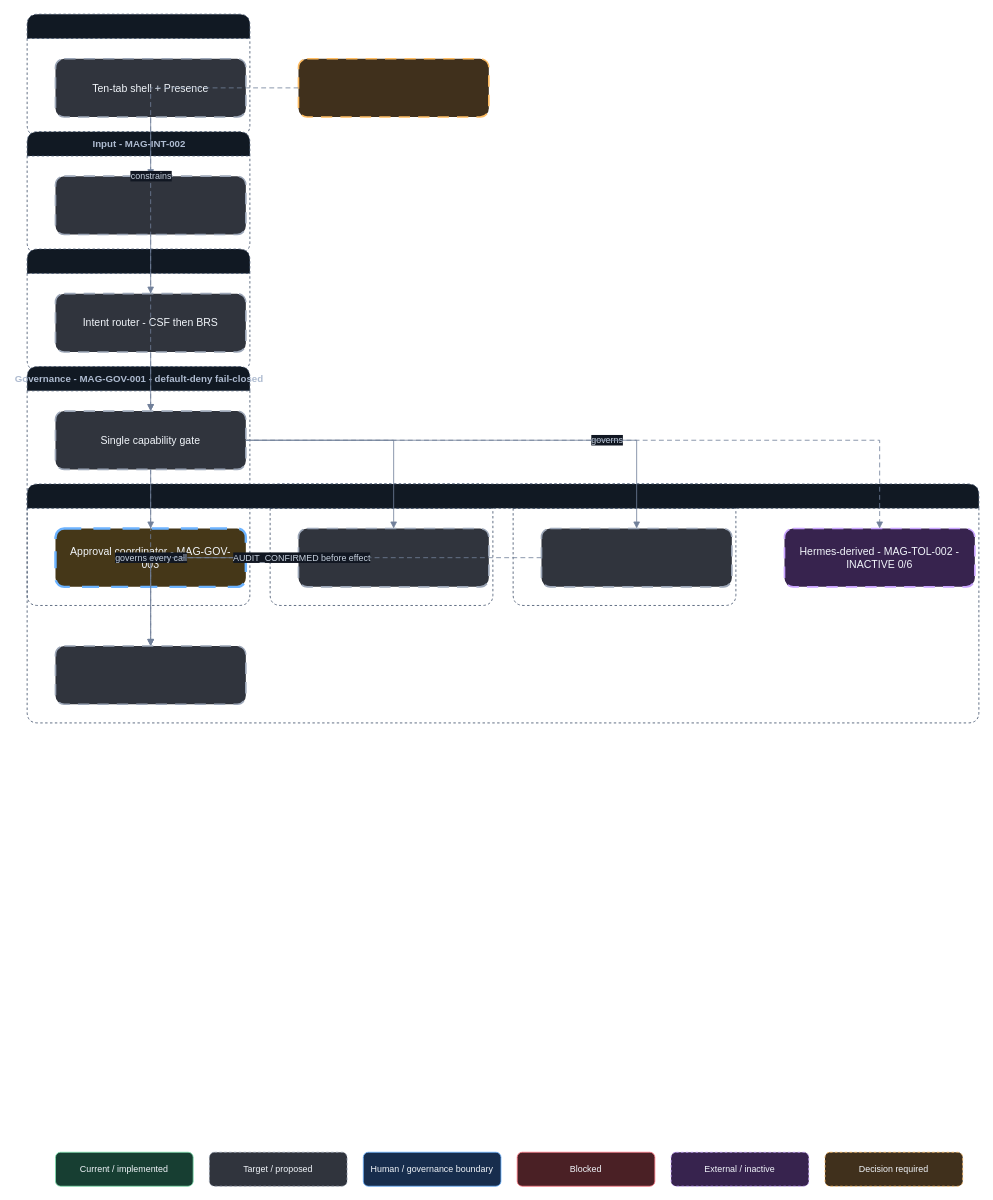
This 993x1200 diagram has some shape labels left out. Each missing label, with the box of its shape:
Agents/Tools - MAG-AGT-001 MAG-TOL-001: (26, 483, 979, 723)
Capability adapters: (54, 645, 246, 705)
Cognition - MAG-COG-001 - bounded: (26, 248, 250, 371)
Command interpreter: (54, 175, 246, 235)
Event bus: (297, 527, 489, 587)
Experience - MAG-EXP-001 - reuse donor MCC: (26, 13, 250, 136)
HELIX - MAG-HLX-001 - read-only: (297, 58, 489, 117)
Secure audit (audit-before-effect): (540, 527, 732, 587)
